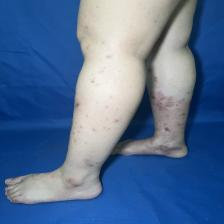DA: (74, 98, 100, 170), (104, 103, 124, 131)
